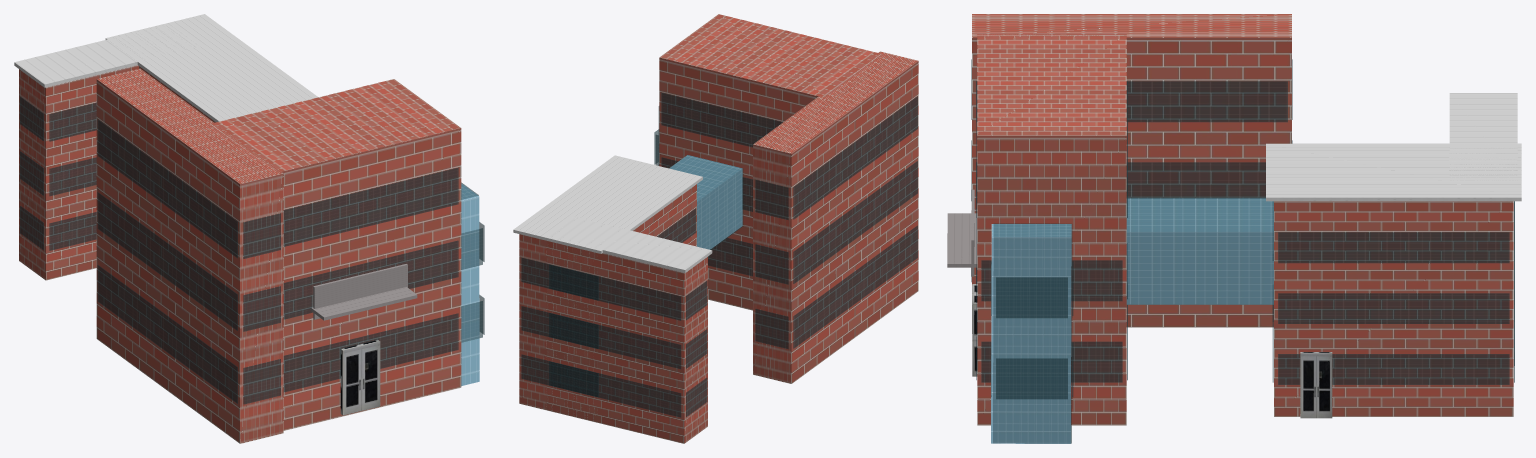
Rendered from Martin_Lilly_v16.1.glb.
3 renders of one model, left to right at view 1: azimuth 30°, elevation 25°; view 2: azimuth 150°, elevation 25°; view 3: azimuth 270°, elevation 25°, orthographic. The views are drawn at different scales.
Parts seen in each view (by area): view 1: MartinBackDepth, MartinMid, LillyBackExtension, LillyRoof, MartinMid_front_windows_row3, MartinMid_front_windows_row1, MartinBackDepth_left_windows_row2, MartinBackDepth_left_windows_row3, MartinBackDepth_left_windows_row1, LillyRoofExt, MartinMid_front_windows_row2, Skybridge (+14 smaller); view 2: MartinBackDepth, MartinMid, LillyBackExtension, LillyFront, LillyRoof, LillyRoofExt, MartinBackDepth_left_windows_row1, MartinBackDepth_left_windows_row2, MartinBackDepth_left_windows_row3, SkybridgeWindows, Skybridge, MartinMid_back_windows_row3 (+15 smaller); view 3: LillyFront, MartinMid, MartinBackDepth, Skybridge (×2), SkybridgeWindows (×2), LillyRoof, LillyFront_right_windows_row3, LillyFront_right_windows_row2, MartinBackDepth_right_windows_row3, LillyFront_right_windows_row1, LillyRoofExt, MartinBackDepth_right_windows_row2 (+7 smaller).
Boxes of the visible parts, x1,y1,x2,y2 form: MartinBackDepth: (96, 68, 283, 443); MartinMid: (208, 79, 461, 430); LillyBackExtension: (19, 65, 138, 280); LillyRoof: (105, 14, 317, 122); MartinMid_front_windows_row3: (283, 168, 458, 246); MartinMid_front_windows_row1: (283, 313, 458, 392); MartinBackDepth_left_windows_row2: (97, 192, 237, 330); MartinBackDepth_left_windows_row3: (97, 120, 237, 258); MartinBackDepth_left_windows_row1: (97, 265, 237, 403); LillyRoofExt: (14, 23, 205, 87); MartinMid_front_windows_row2: (283, 240, 458, 319); Skybridge: (461, 183, 479, 385); MartinBackDepth: (753, 51, 918, 383); MartinMid: (659, 14, 882, 310); LillyBackExtension: (546, 241, 707, 443); LillyFront: (519, 184, 696, 423); LillyRoof: (513, 155, 702, 253); LillyRoofExt: (543, 215, 712, 272); MartinBackDepth_left_windows_row1: (793, 225, 917, 348); MartinBackDepth_left_windows_row2: (793, 161, 917, 283); MartinBackDepth_left_windows_row3: (793, 96, 917, 219); SkybridgeWindows: (669, 155, 742, 249); Skybridge: (669, 155, 742, 249); MartinMid_back_windows_row3: (661, 93, 782, 147); LillyFront: (1274, 201, 1513, 416); MartinMid: (977, 34, 1126, 425); MartinBackDepth: (972, 14, 1291, 327); Skybridge (×2): (991, 198, 1273, 443); SkybridgeWindows (×2): (993, 197, 1273, 443); LillyRoof: (1266, 143, 1521, 201); LillyFront_right_windows_row3: (1278, 232, 1509, 263); LillyFront_right_windows_row2: (1278, 293, 1509, 323); MartinBackDepth_right_windows_row3: (976, 81, 1287, 122); LillyFront_right_windows_row1: (1278, 354, 1509, 384); LillyRoofExt: (1449, 93, 1517, 180); MartinBackDepth_right_windows_row2: (976, 162, 1265, 202).
Size of what is drawn, in the model's own units: 82.58 by 81.43 by 144.
8 materials, 8 textured.
